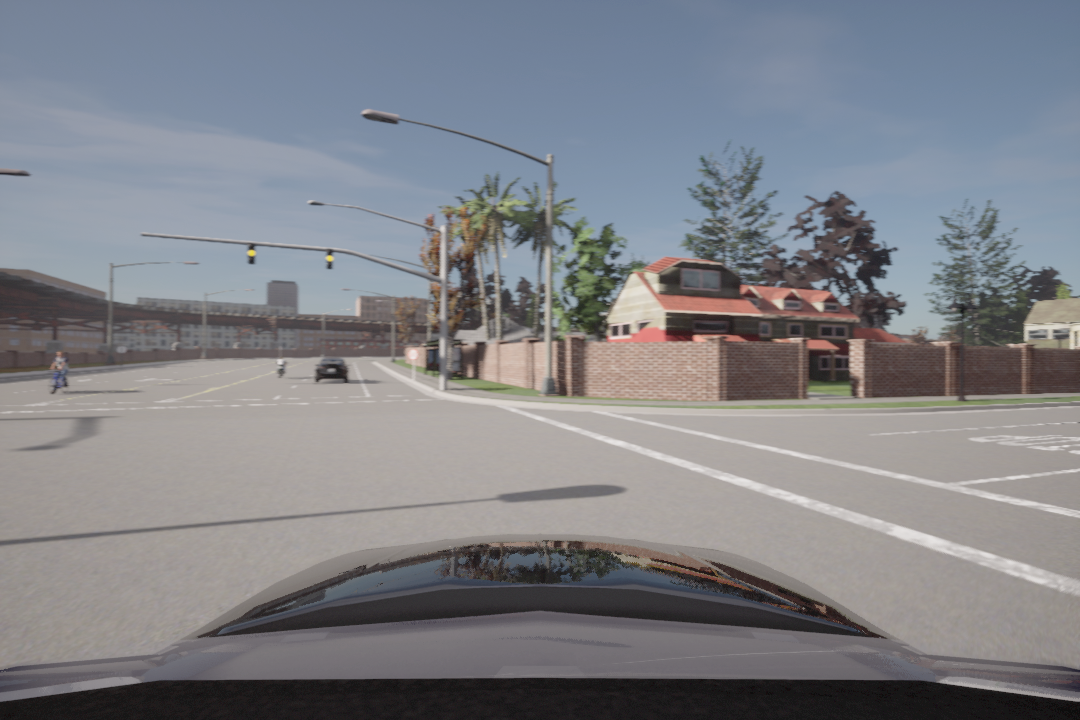TrafficLight: (244, 242, 257, 271), (326, 247, 337, 274)
